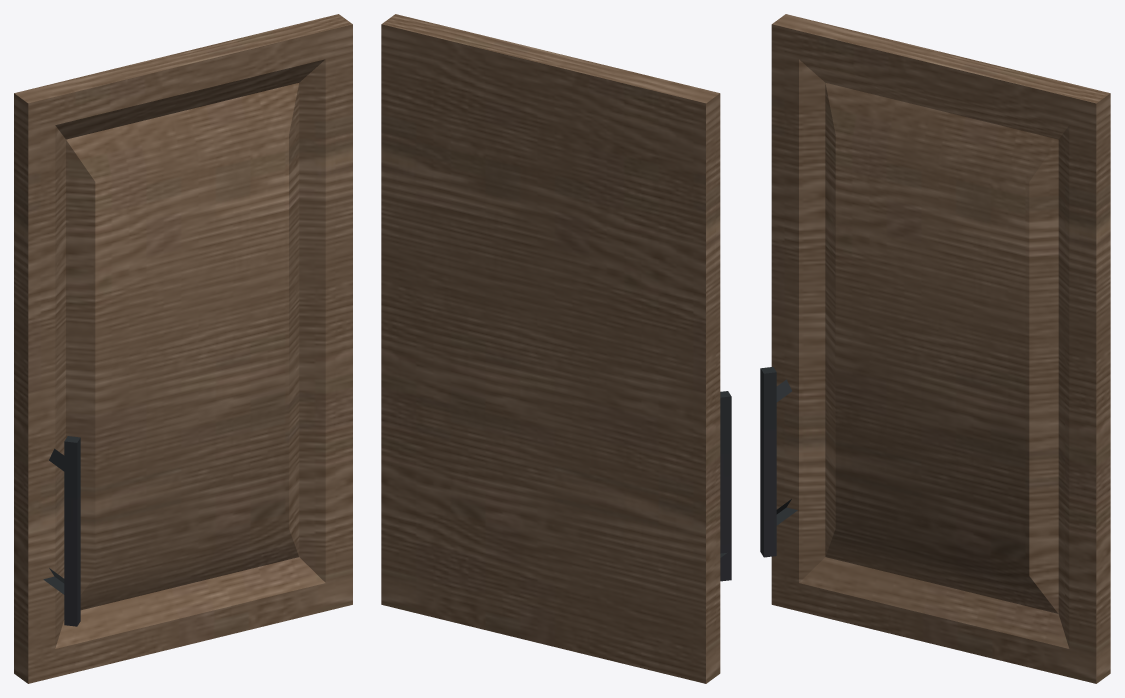
File: Washbasin_door_02.glb
3 renders of one model, left to right at view 1: azimuth 30°, elevation 25°; view 2: azimuth 150°, elevation 25°; view 3: azimuth 330°, elevation 25°, orthographic.
Parts seen in each view (by area): view 1: Washbasin_door_02; view 2: Washbasin_door_02; view 3: Washbasin_door_02.
Boxes of the visible parts, <box> form: Washbasin_door_02: <box>14,14,352,683</box>; Washbasin_door_02: <box>381,14,731,683</box>; Washbasin_door_02: <box>760,14,1110,683</box>.
Size of the model in its own units: 0.3528 by 0.6028 by 0.08.
2 materials, 2 textured.
